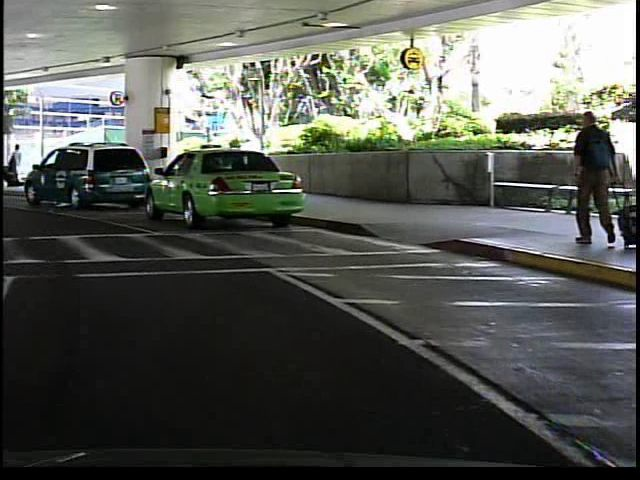person: (556, 102, 621, 257)
